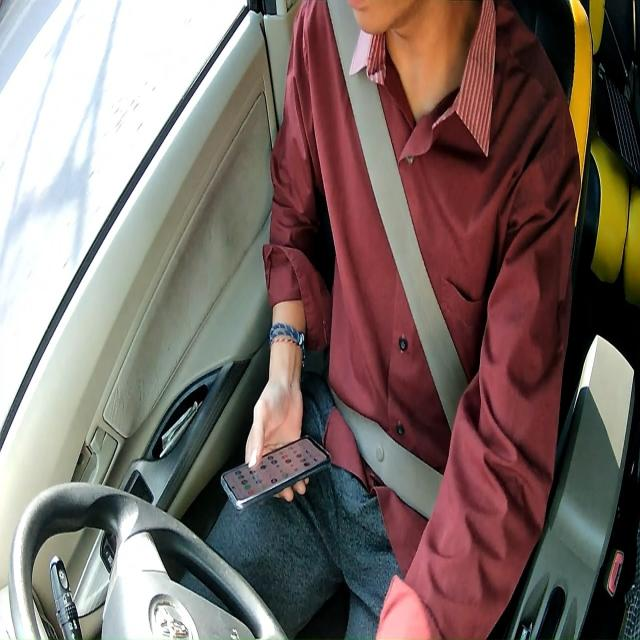phone: (218, 430, 334, 512)
